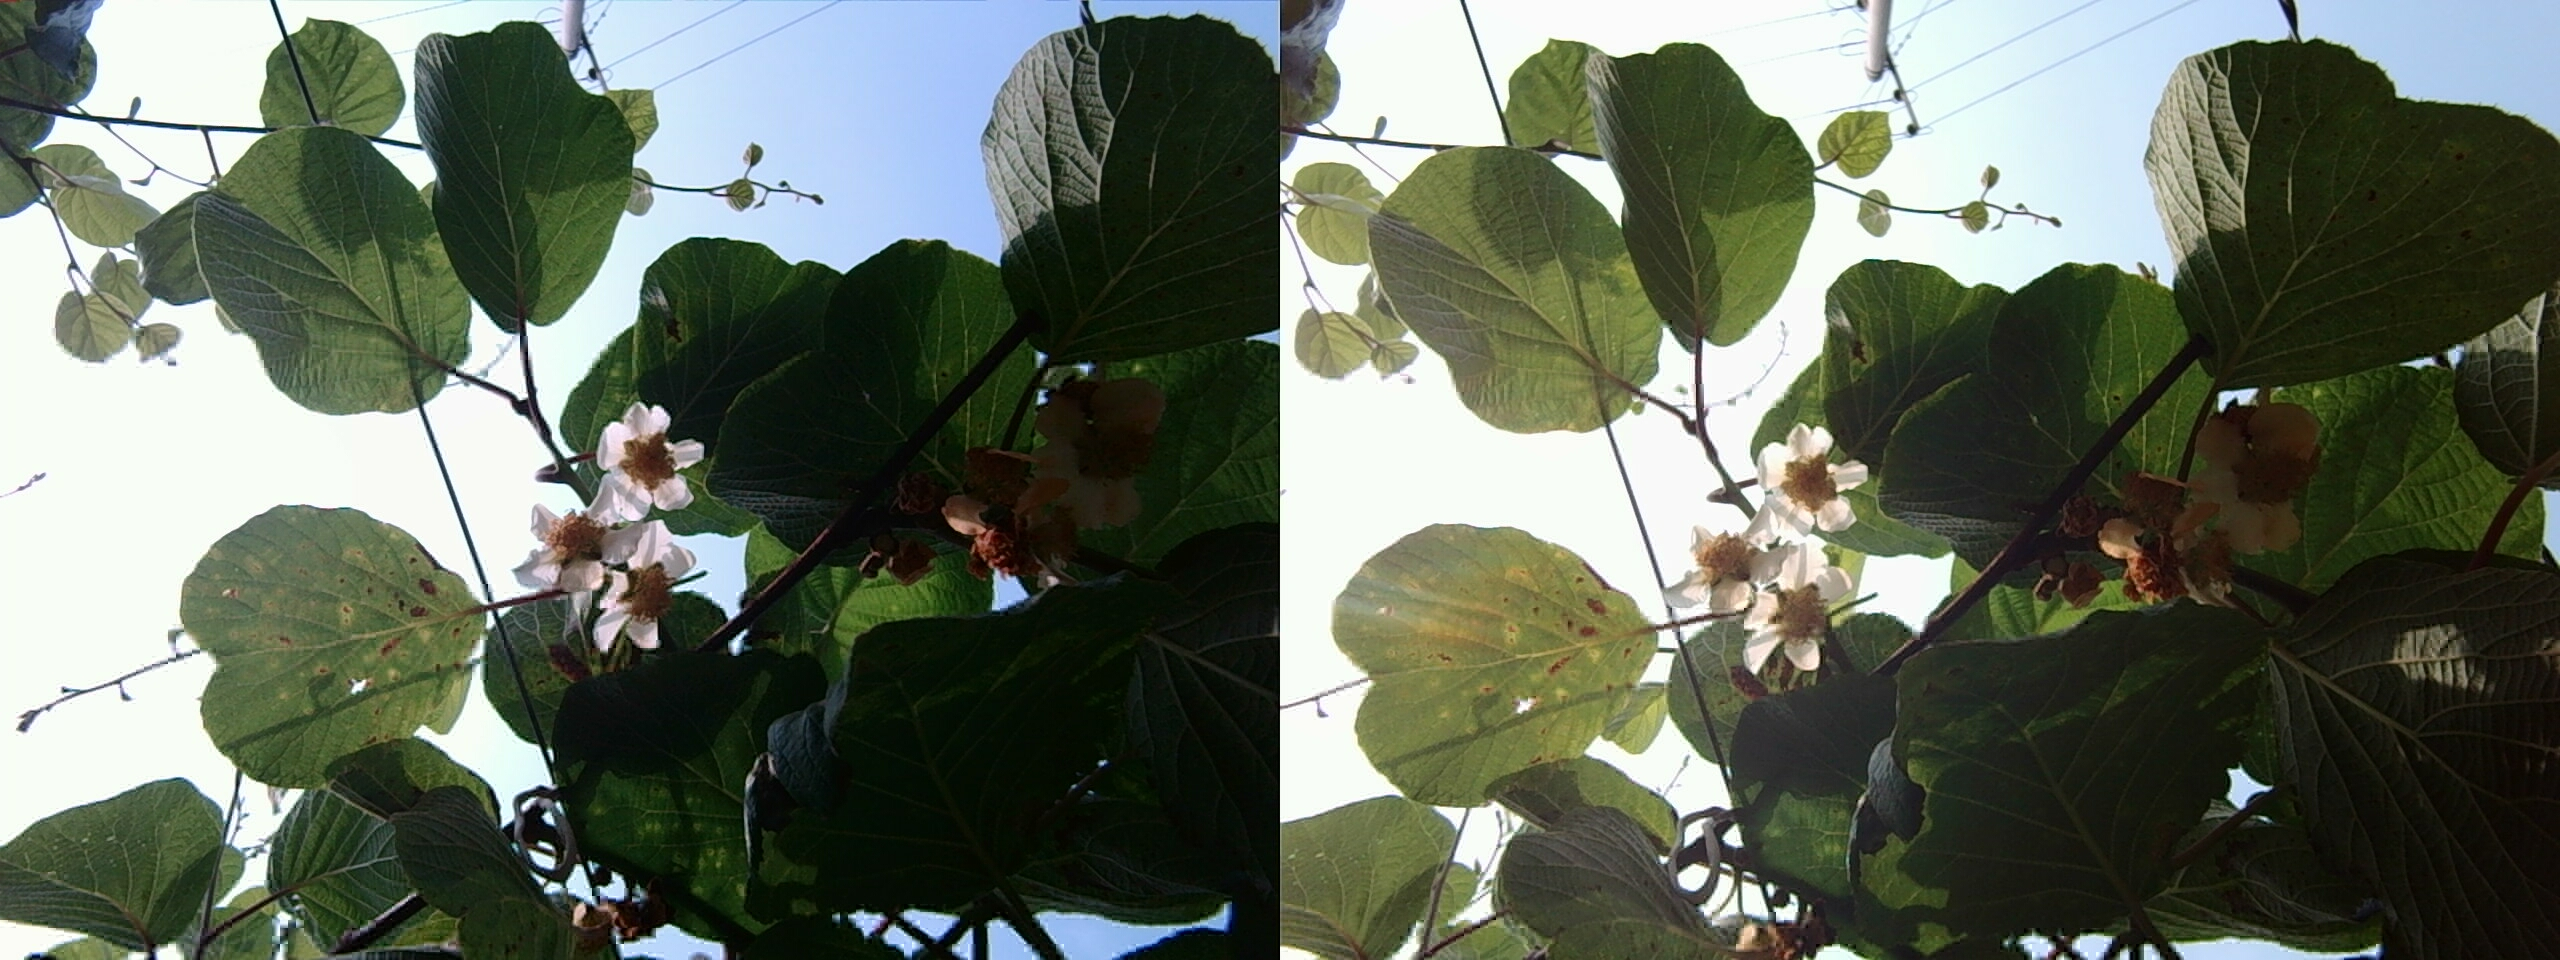flower: (2171, 390, 2323, 562), (555, 518, 700, 653), (1744, 424, 1863, 544), (583, 400, 696, 516)
